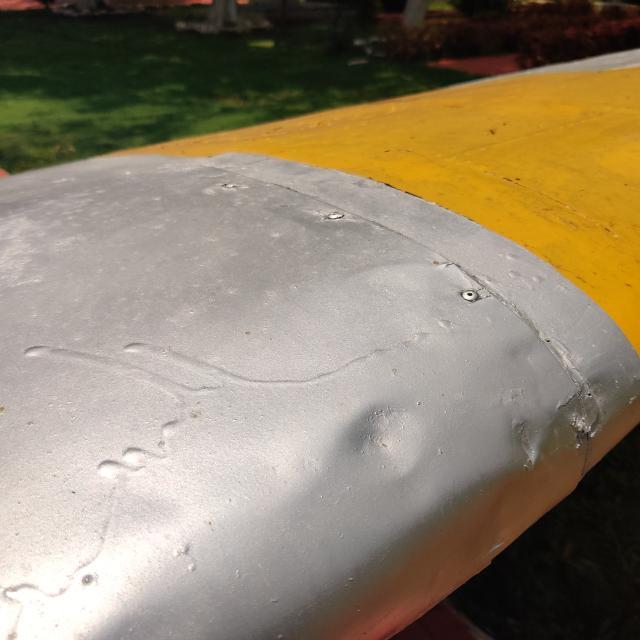dent: (310, 371, 457, 512), (489, 399, 566, 482)
